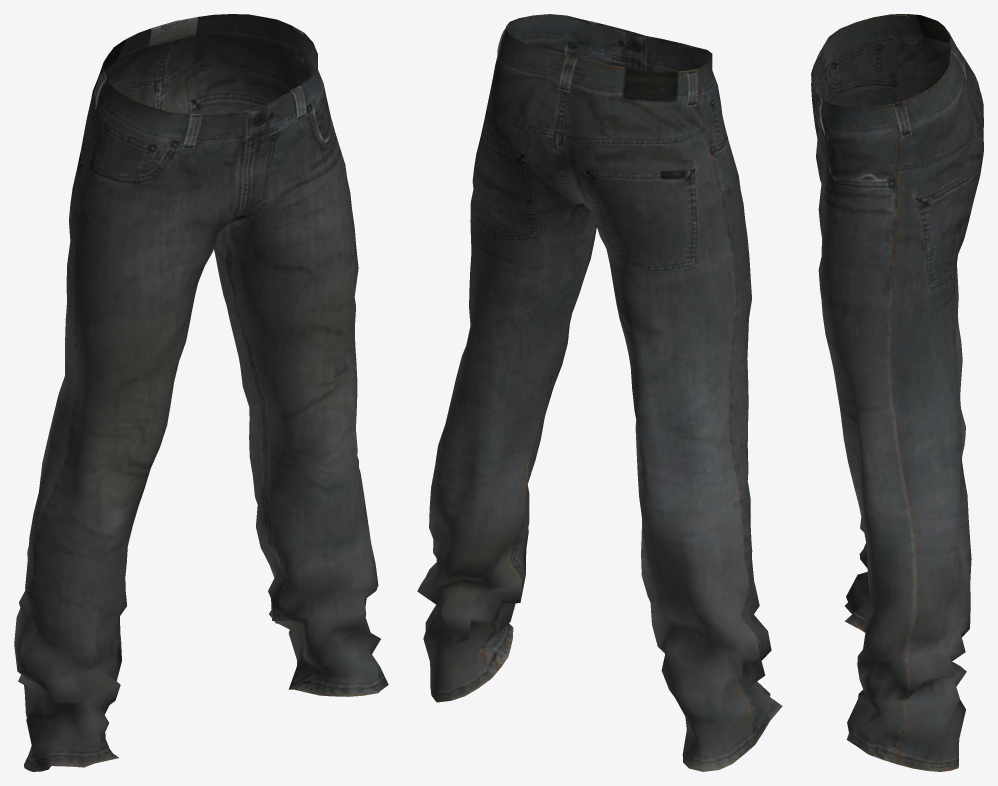
Rendered from mindfront-male-trousers-1.glb.
3 renders of one model, left to right at view 1: azimuth 30°, elevation 25°; view 2: azimuth 150°, elevation 25°; view 3: azimuth 270°, elevation 25°, orthographic. The views are drawn at different scales.
Visible parts, largest first — view 1: Human.mindfront_male_trousers_1; view 2: Human.mindfront_male_trousers_1; view 3: Human.mindfront_male_trousers_1.
Boxes of the visible parts, x1,y1,x2,y2 form: Human.mindfront_male_trousers_1: (14, 14, 388, 771); Human.mindfront_male_trousers_1: (417, 14, 782, 771); Human.mindfront_male_trousers_1: (811, 14, 983, 771).
Bounding box in the file's own units: 0.5538 × 1.07 × 0.2535.
1 material, 1 textured.
